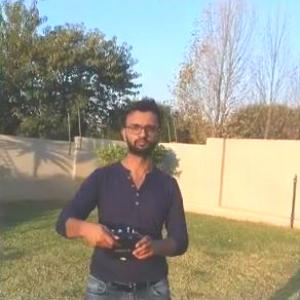follow: (51, 94, 194, 299)
